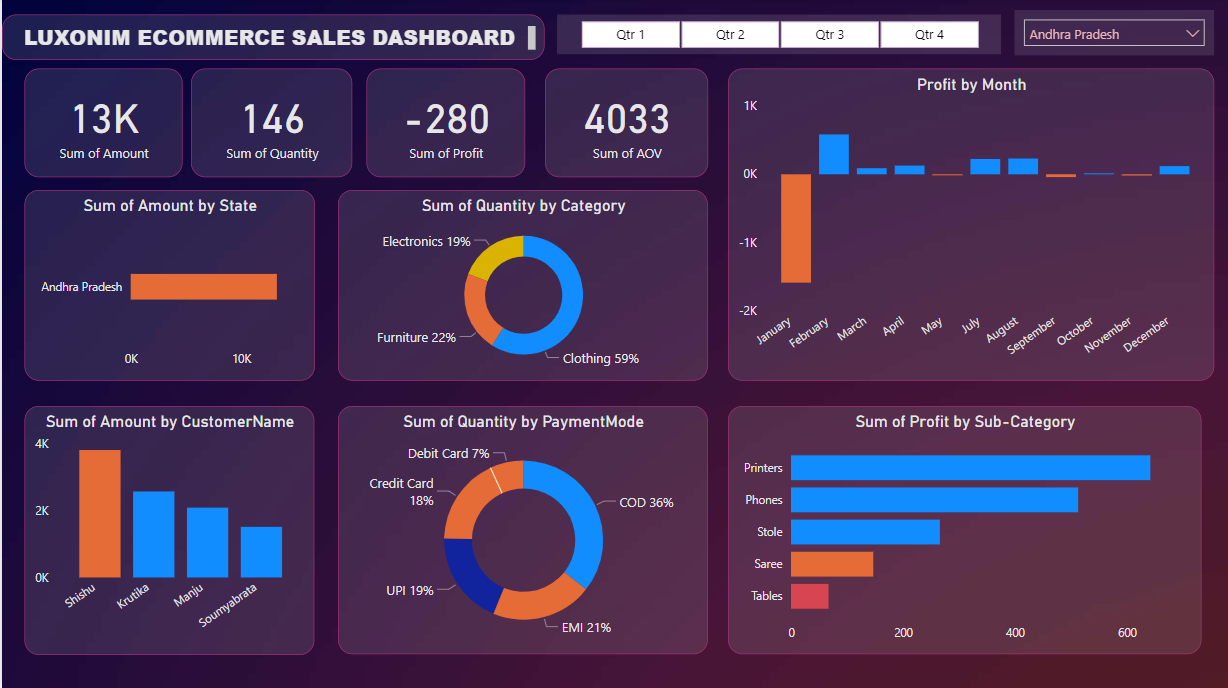

What the dashboard file says about the page in this screenshot:
{"tool":"powerbi","page":{"name":"Page 1","canvas":[1280,720],"ordinal":0},"visuals":[{"type":"textbox","box":[0,17,565,47.2],"z":0},{"type":"columnChart","title":"Profit by Month","fields":{"Y":["Sum(Details.Profit)"],"Category":["Orders.Order Date.Variation.Date Hierarchy.Month"]},"box":[755.9,73.7,506.5,325],"z":1000},{"type":"barChart","fields":{"Category":["Details.Sub-Category"],"Y":["Sum(Details.Profit)"]},"box":[755.9,425.2,493.2,258.9],"z":2000},{"type":"donutChart","fields":{"Category":["Details.Category"],"Y":["Sum(Details.Quantity)"]},"box":[349.6,200.3,385.5,198.4],"z":3000},{"type":"donutChart","fields":{"Category":["Details.PaymentMode"],"Y":["Sum(Details.Quantity)"]},"box":[349.6,425.2,385.5,258.9],"z":4000},{"type":"card","title":"Sum of Amount","fields":{"Values":["Sum(Details.Amount)"]},"box":[22.7,73.7,164.4,113.4],"z":5000},{"type":"card","title":"Sum of Amount","fields":{"Values":["Sum(Details.Quantity)"]},"box":[196.5,73.7,168.2,113.4],"z":6000},{"type":"card","title":"Sum of Amount","fields":{"Values":["Sum(Details.Profit)"]},"box":[379.8,73.7,165,113.4],"z":7000},{"type":"card","title":"Sum of Amount","fields":{"Values":["Sum(Details.AOV)"]},"box":[565,73.7,170.1,113.4],"z":8000},{"type":"barChart","fields":{"Category":["Orders.State"],"Y":["Sum(Details.Amount)"]},"box":[22.7,200.3,302.4,198.4],"z":9000},{"type":"columnChart","fields":{"Category":["Orders.CustomerName"],"Y":["Sum(Details.Amount)"]},"box":[23,425,302,259],"z":10000},{"type":"slicer","fields":{"Values":["Orders.Order Date.Variation.Date Hierarchy.Quarter"]},"box":[578.3,17,463,41.6],"z":11000},{"type":"slicer","fields":{"Values":["Orders.State"]},"box":[1054.5,13.2,207.9,47.2],"z":12000}]}

Visuals, with their boxes in screenshot pixels (x1, y1, x2, y2), scaled from the page's 1280x720 canvas onto the 1228x688 screenshot:
textbox: crop(0, 16, 542, 61)
"Profit by Month" columnChart: crop(725, 70, 1211, 381)
barChart - Details.Sub-Category x Sum(Details.Profit): crop(725, 406, 1198, 654)
donutChart - Details.Category x Sum(Details.Quantity): crop(335, 191, 705, 381)
donutChart - Details.PaymentMode x Sum(Details.Quantity): crop(335, 406, 705, 654)
"Sum of Amount" card: crop(22, 70, 179, 179)
"Sum of Amount" card: crop(189, 70, 350, 179)
"Sum of Amount" card: crop(364, 70, 523, 179)
"Sum of Amount" card: crop(542, 70, 705, 179)
barChart - Orders.State x Sum(Details.Amount): crop(22, 191, 312, 381)
columnChart - Orders.CustomerName x Sum(Details.Amount): crop(22, 406, 312, 654)
slicer - Orders.Order Date.Variation.Date Hierarchy.Quarter: crop(555, 16, 999, 56)
slicer - Orders.State: crop(1012, 13, 1211, 58)
